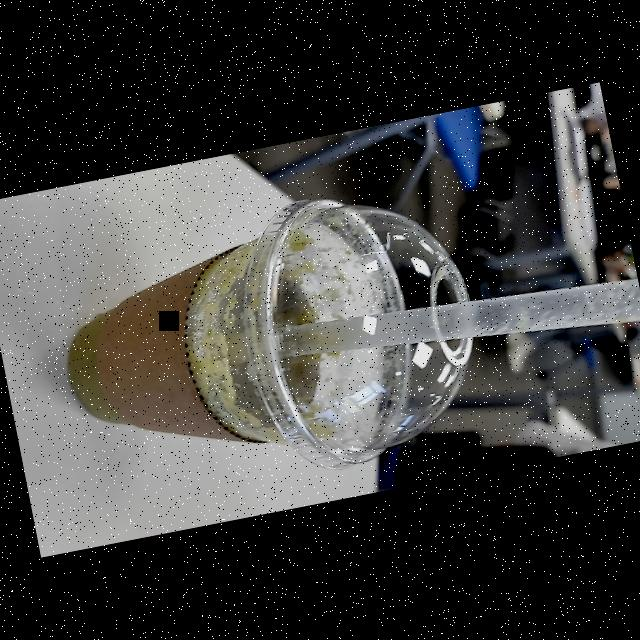plastic_cup: (40, 168, 498, 514)
plastic_cup_lid: (225, 169, 500, 489)
straw: (280, 255, 640, 394)
